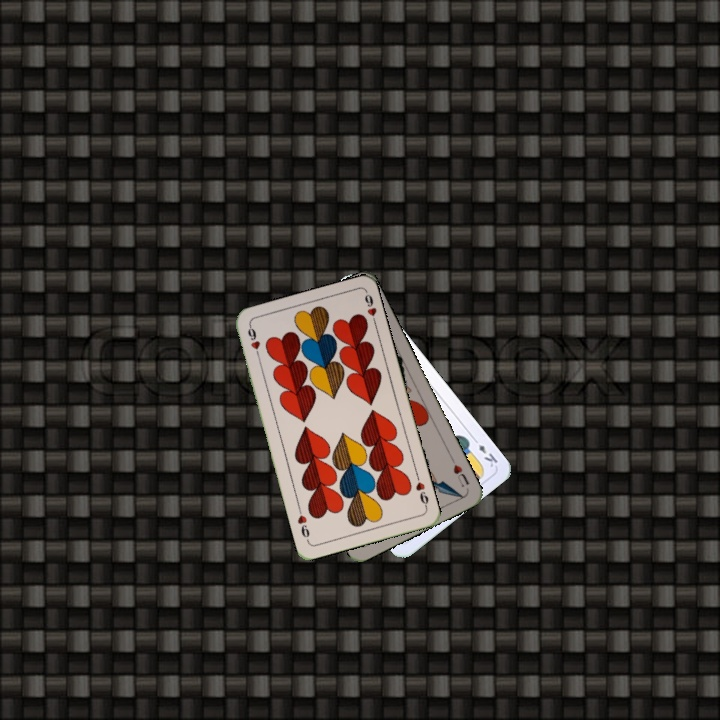EK: (468, 433, 500, 470)
H9: (243, 322, 263, 362), (412, 471, 431, 511)
HU: (447, 453, 472, 490)
